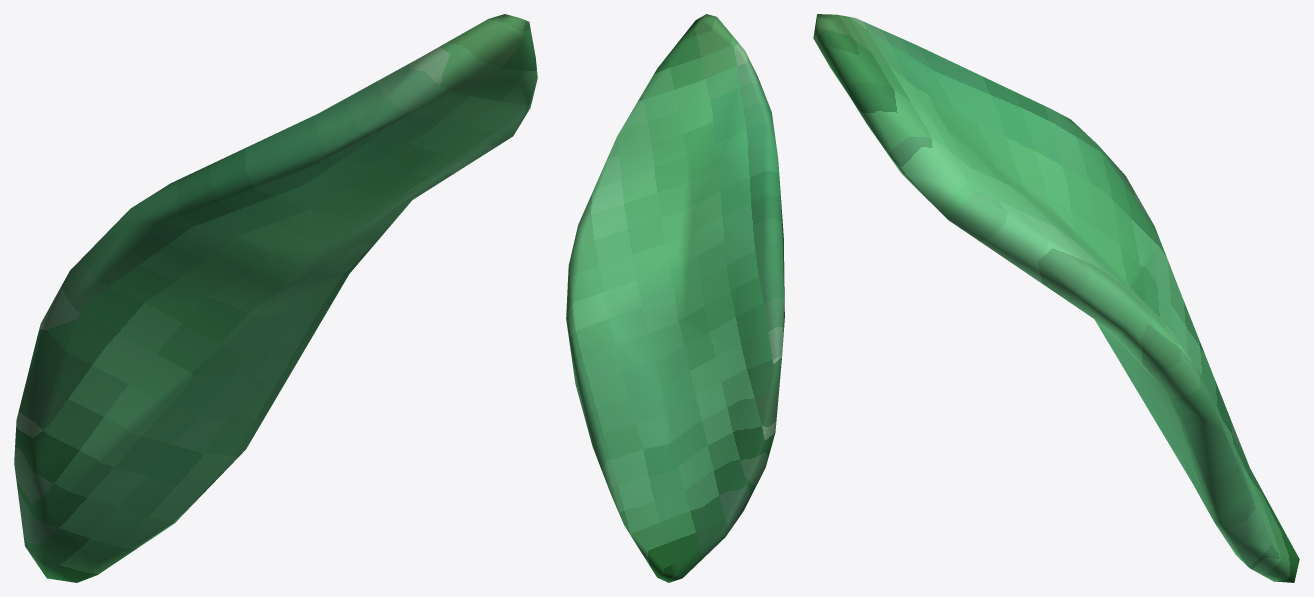
The model's file is broadleaf_d.glb.
3 renders of one model, left to right at view 1: azimuth 30°, elevation 25°; view 2: azimuth 150°, elevation 25°; view 3: azimuth 270°, elevation 25°, orthographic. The views are drawn at different scales.
Parts seen in each view (by area): view 1: broadleaf_d; view 2: broadleaf_d; view 3: broadleaf_d.
Boxes of the visible parts, x1=… form: broadleaf_d: x1=14, y1=14, x2=537, y2=582; broadleaf_d: x1=566, y1=14, x2=784, y2=582; broadleaf_d: x1=813, y1=14, x2=1299, y2=582.
Bounding box in the file's own units: 0.0437 × 0.0791 × 0.054.
Materials: 1 (1 with a texture image).
